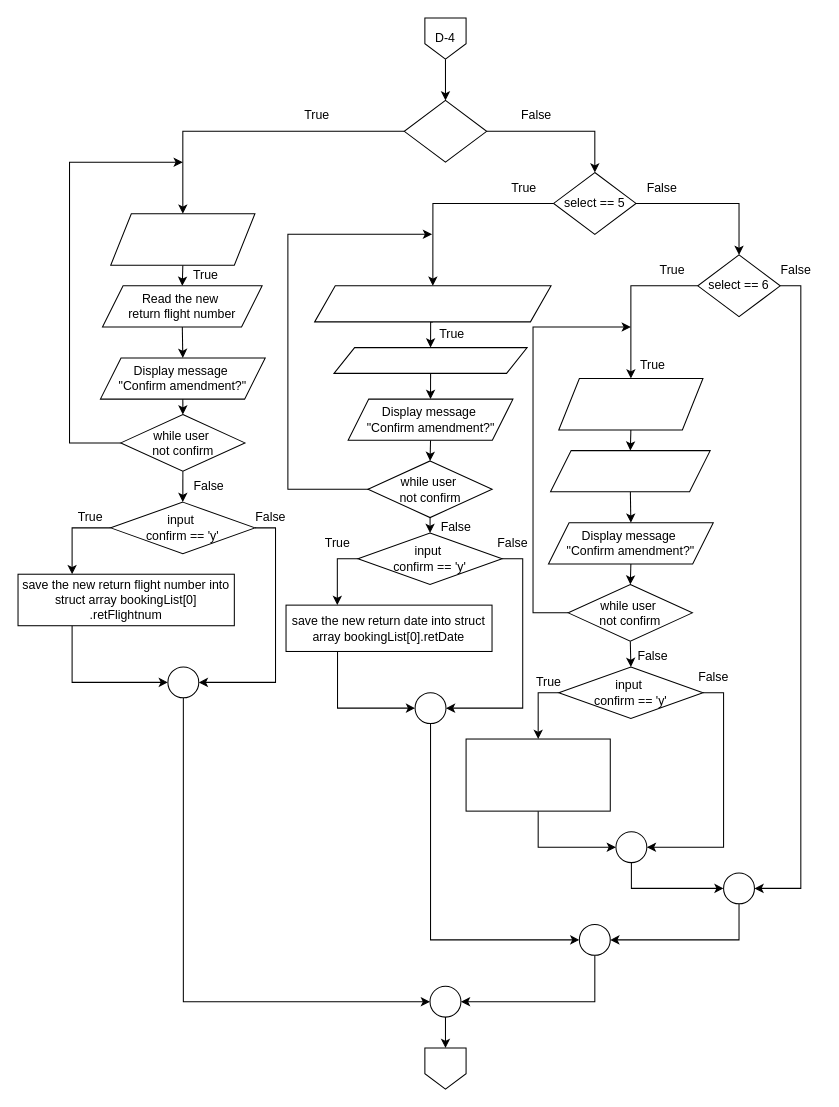
Some shapes in this 839 by 1107 pixel diagram are drawn without their labels. The box of each missing label's shape, as (x1, y1, x2, y2) in pixels:
D-1: (424, 1047, 466, 1089)
Display message the old return date: (314, 285, 551, 322)
Display message the old return flight number: (110, 213, 255, 265)
Display message the old return slot: (558, 377, 703, 430)
Read the new return date: (333, 347, 527, 373)
Read the new return slot: (550, 450, 710, 492)
save the new return slot into struct array bookingList[0] .retTime: (465, 738, 610, 811)
select == 4: (403, 99, 487, 162)
